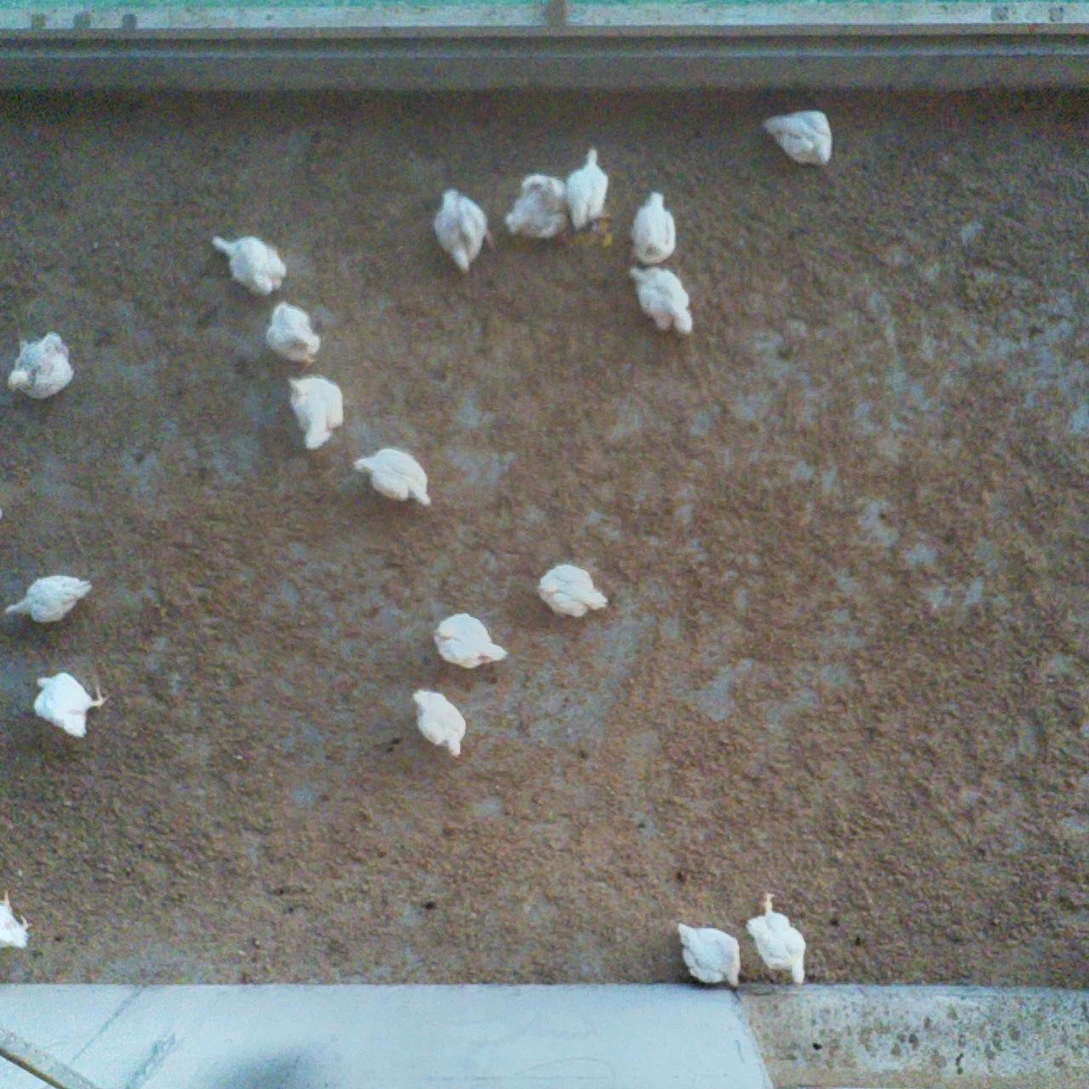chicken: (742, 886, 816, 995), (671, 914, 751, 997), (0, 323, 78, 404), (207, 227, 290, 302), (624, 258, 700, 338), (28, 665, 105, 743), (432, 181, 494, 275), (428, 605, 510, 675), (760, 106, 842, 175), (409, 678, 473, 766), (533, 557, 614, 625), (353, 444, 433, 512), (4, 568, 95, 625), (562, 141, 615, 238), (282, 373, 347, 452), (504, 169, 573, 240), (626, 184, 682, 267), (261, 298, 325, 369), (0, 884, 37, 958)
